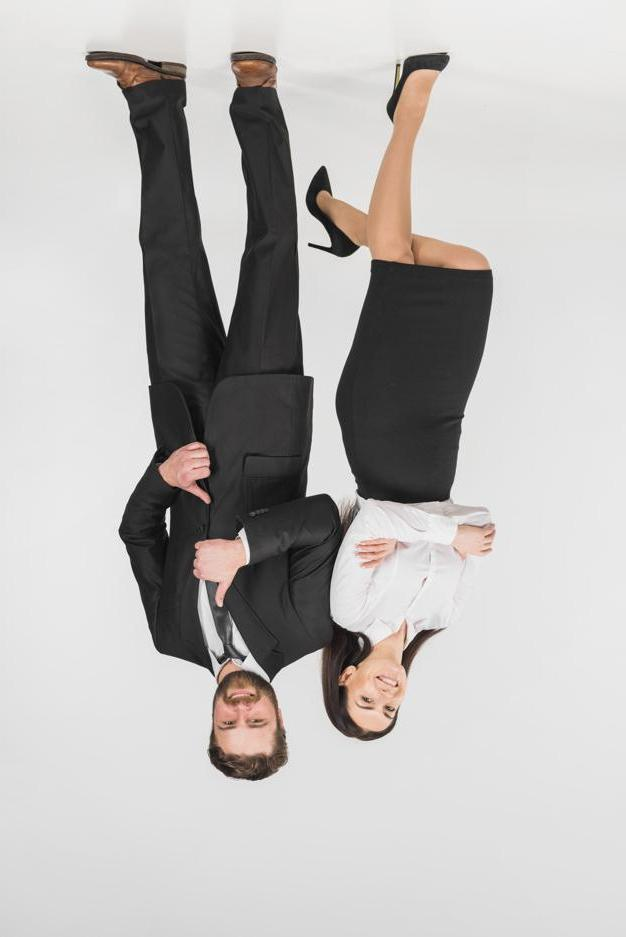thumbsdown: (192, 539, 228, 608), (177, 441, 212, 504)
